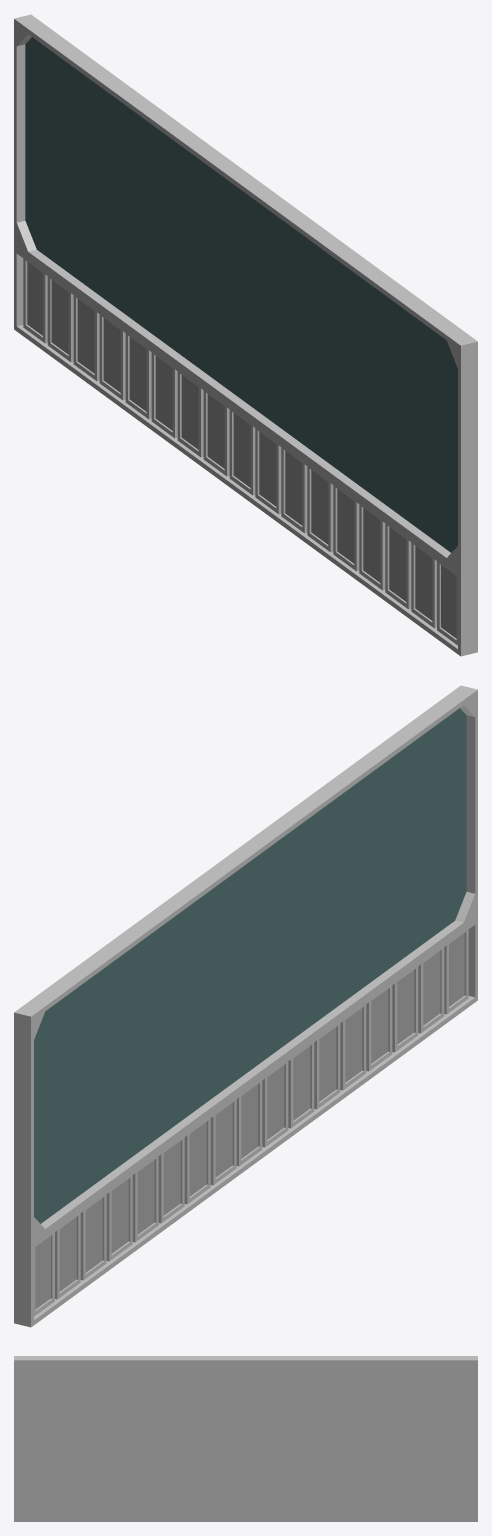
The model's file is Signboard_09_3840x1080.FBX.
The picture shows the model from 3 angles, top to bottom: view 1: azimuth 30°, elevation 25°; view 2: azimuth 150°, elevation 25°; view 3: azimuth 270°, elevation 25°; orthographic projection. The views are drawn at different scales.
Visible parts, largest first — view 1: Signboard_09_3840x1080_LOD0; view 2: Signboard_09_3840x1080_LOD0; view 3: Signboard_09_3840x1080_LOD0.
Part boxes in pixels (x1,y1,x2,y2): Signboard_09_3840x1080_LOD0: (14, 14, 477, 656); Signboard_09_3840x1080_LOD0: (14, 685, 477, 1327); Signboard_09_3840x1080_LOD0: (14, 1356, 477, 1521).
Size of what is drawn, in the model's own units: 7.1 by 123 by 320.
